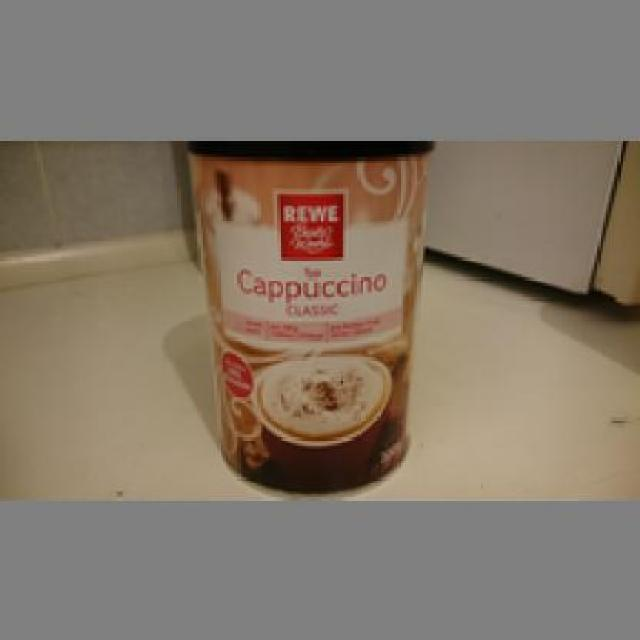Coffee: (182, 140, 432, 489)
